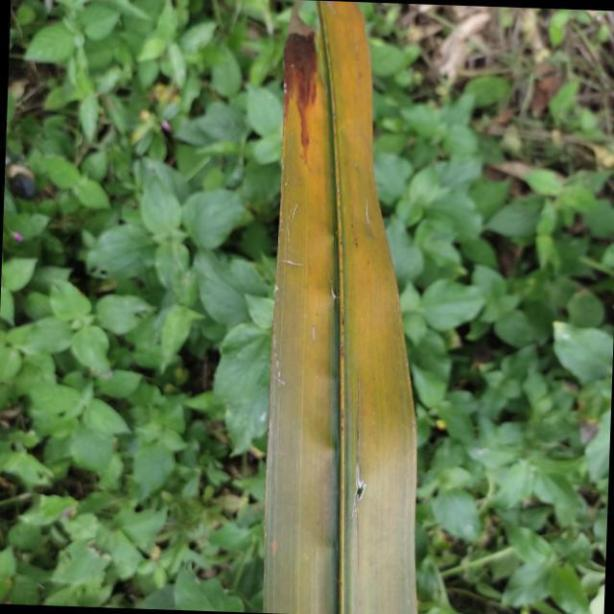Megnesium: (259, 0, 417, 614)
